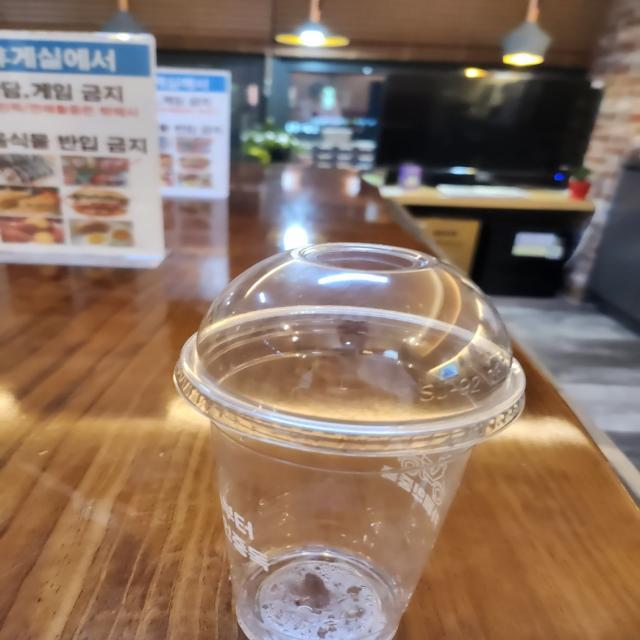plastic_cup_lid: (158, 215, 536, 468)
